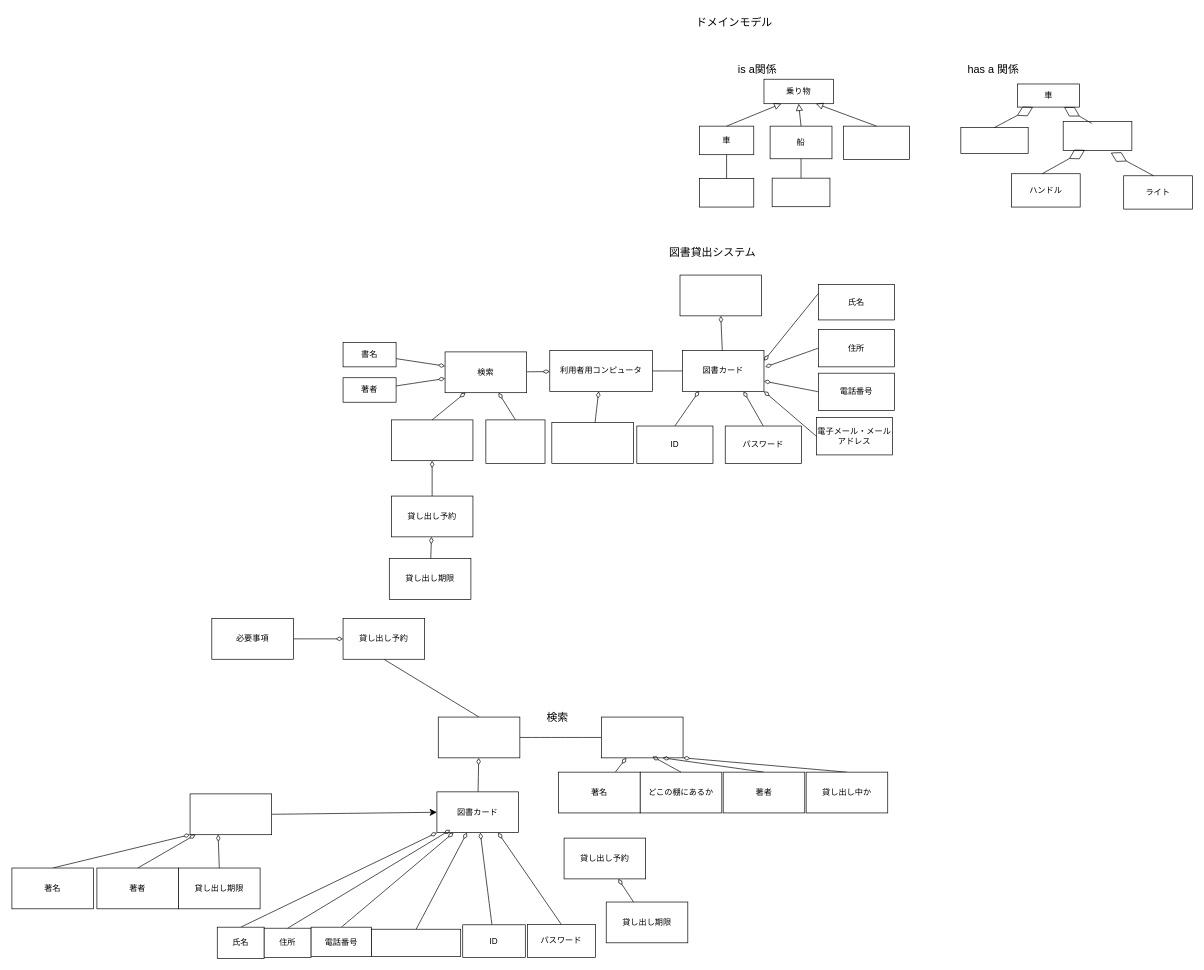
This 1204x970 diagram has some shape labels left out. Each missing label, with the centre of its shape:
"ほしい" goes at (x=800, y=192).
"エンジン" goes at (x=994, y=140).
"ボディ" goes at (x=1097, y=136).
"借りている本" goes at (x=230, y=814).
"借りている本一覧" goes at (x=592, y=442).
"利用者" goes at (x=479, y=737).
"図書" goes at (x=642, y=737).
"図書館" goes at (x=720, y=295).
"本の棚" goes at (x=515, y=441).
"貸し出し中" goes at (x=432, y=440).
"金色先生" goes at (x=726, y=192).
"電子メールアドレス" goes at (x=416, y=942).
"飛行機" goes at (x=876, y=142).
